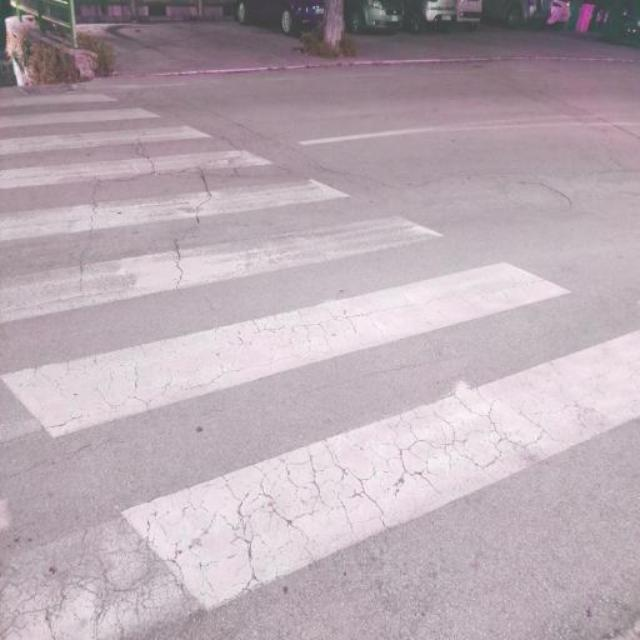sidewalk: (0, 88, 640, 640)
